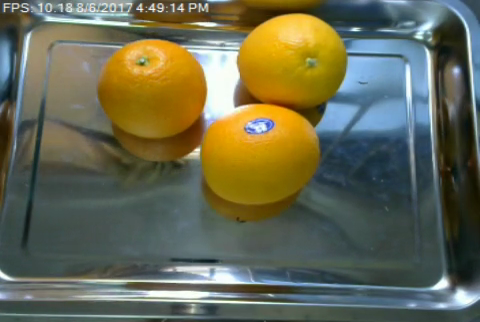Orange: (202, 104, 321, 205), (97, 39, 207, 138), (235, 13, 346, 106)
